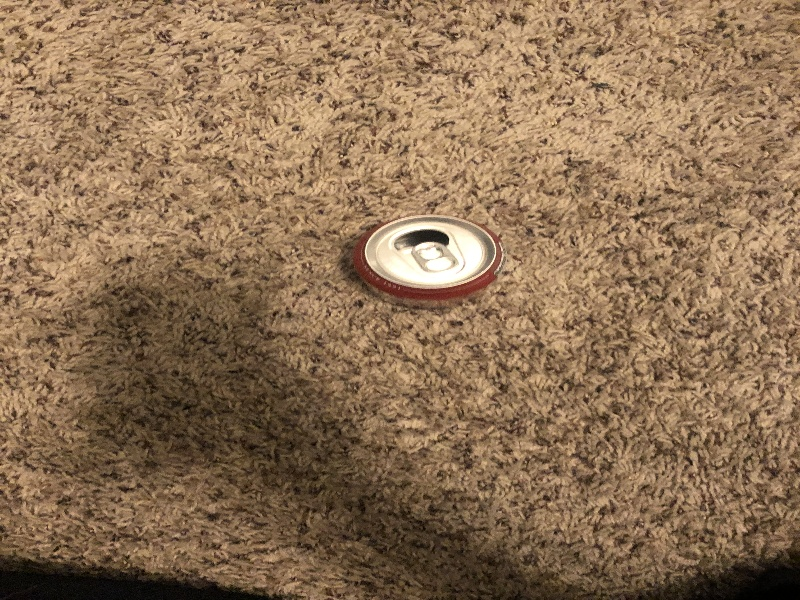metal: (345, 212, 503, 312)
